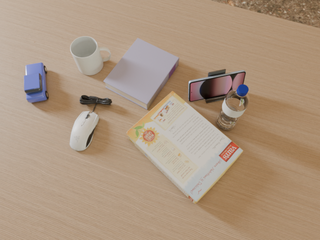book: (104, 38, 179, 110)
bottle: (216, 84, 249, 130)
box: (126, 91, 243, 204)
cup: (70, 36, 111, 75)
mouse: (70, 111, 99, 151)
phone: (188, 70, 246, 102)
toy_car: (24, 63, 48, 103)
